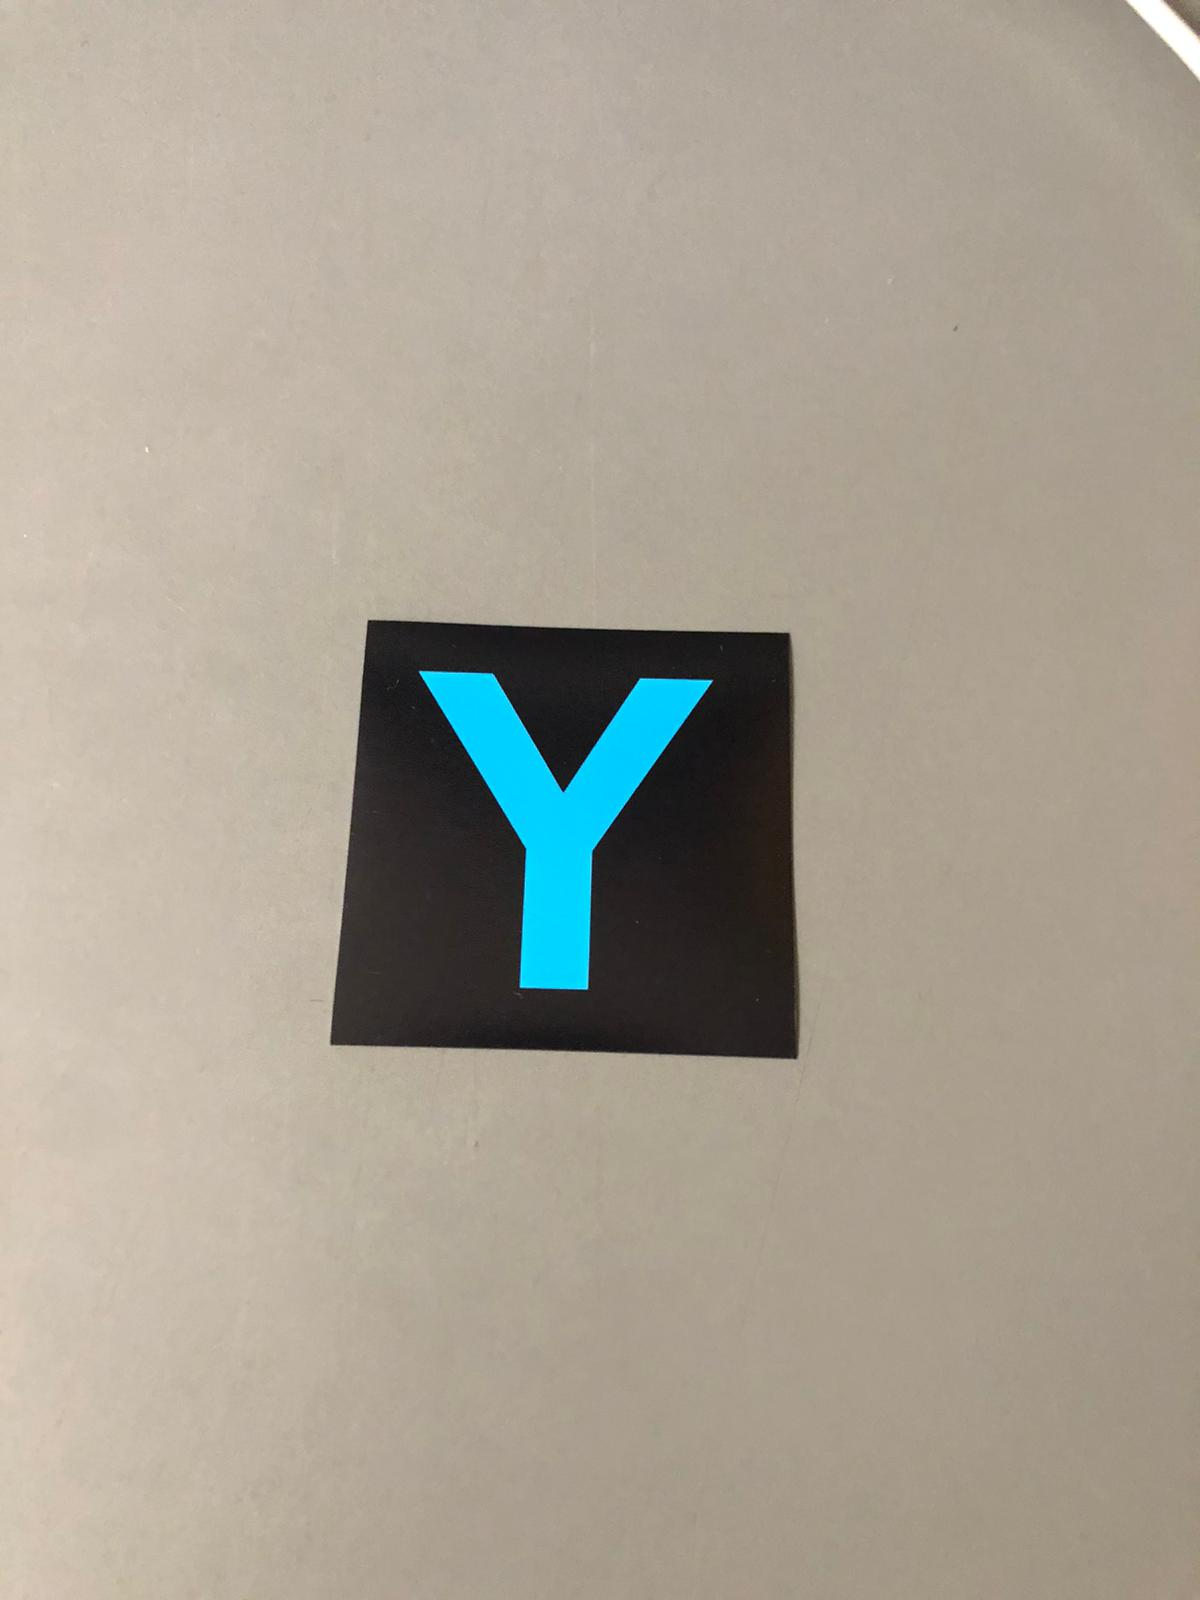Y: (369, 625, 753, 1032)
